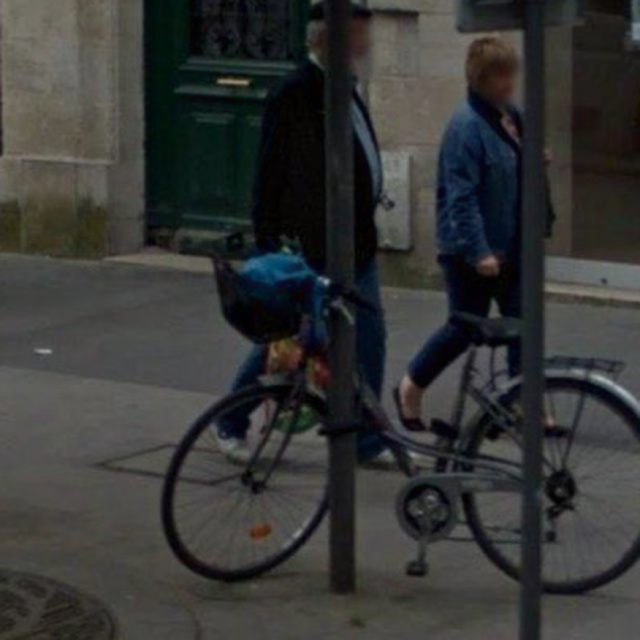bicycle: (125, 223, 632, 608)
